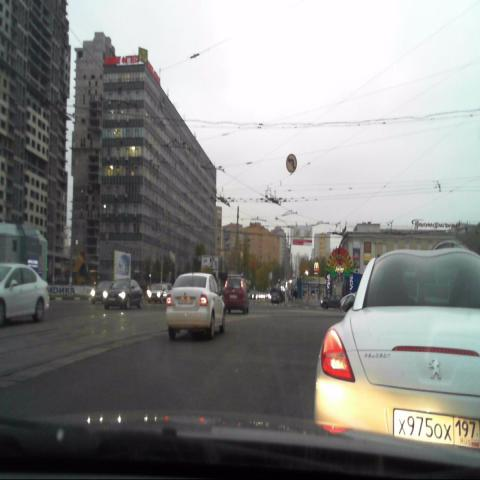3_18_2: (286, 153, 297, 172)
